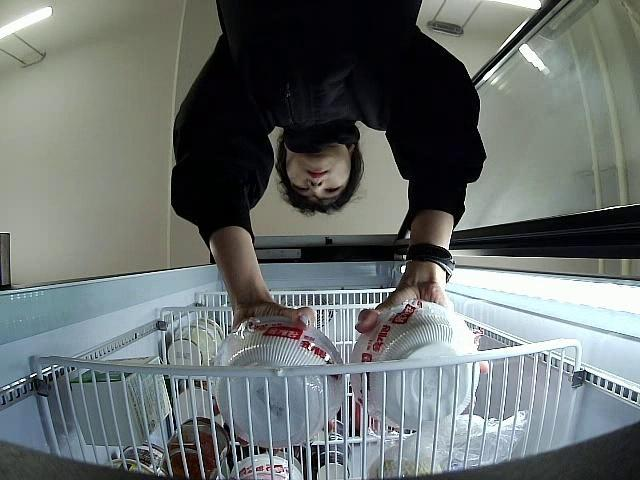09_yukGaeJang: (217, 317, 344, 448), (350, 302, 479, 429)
